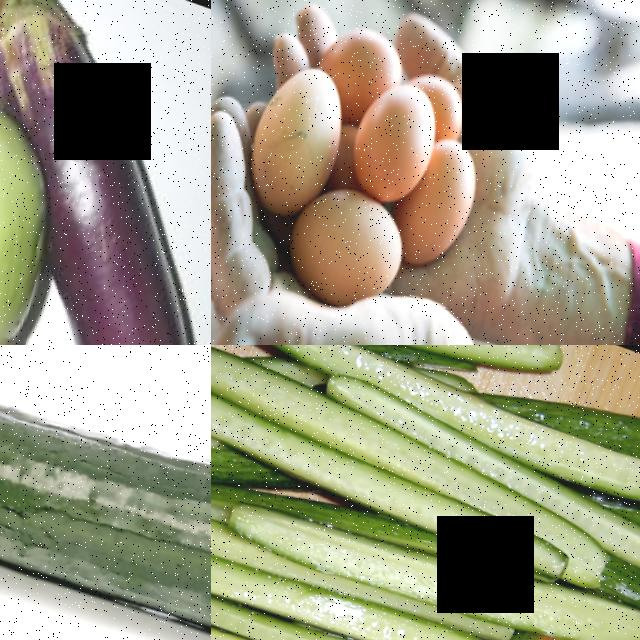cucumber: (0, 345, 211, 640), (211, 490, 563, 640), (320, 493, 640, 640), (438, 362, 640, 500), (211, 345, 579, 401)
egg_: (241, 42, 359, 213), (285, 167, 419, 312), (342, 58, 449, 200), (400, 119, 492, 268), (320, 7, 412, 89)
eggplant: (0, 61, 211, 345)
